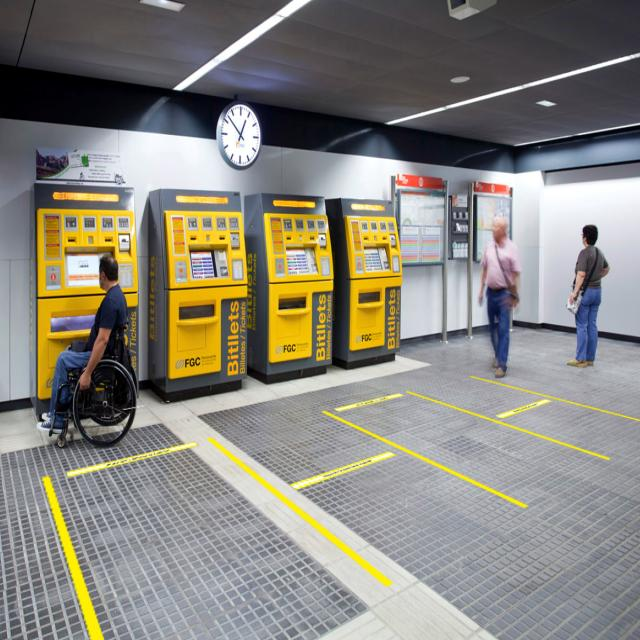tickets-maquina: (149, 190, 248, 401), (245, 193, 334, 383), (325, 199, 402, 368)
